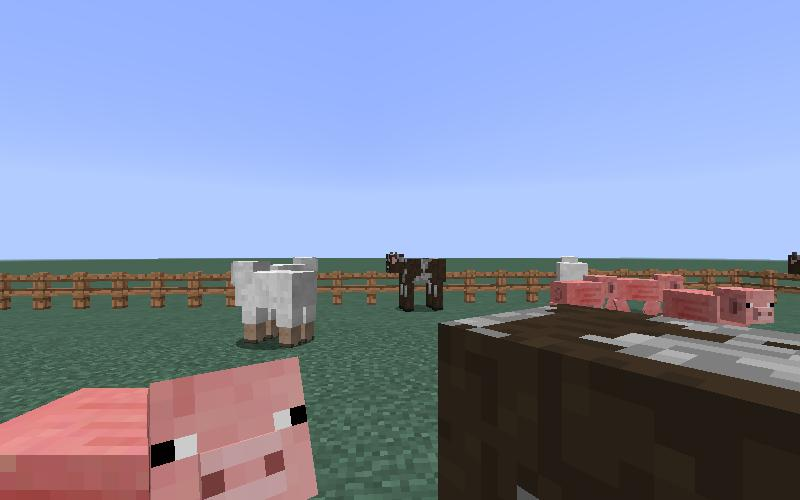cow: (380, 247, 449, 316)
pig: (1, 349, 330, 500), (662, 285, 774, 329), (619, 275, 683, 315), (548, 275, 618, 308)
sheep: (226, 257, 320, 352)
